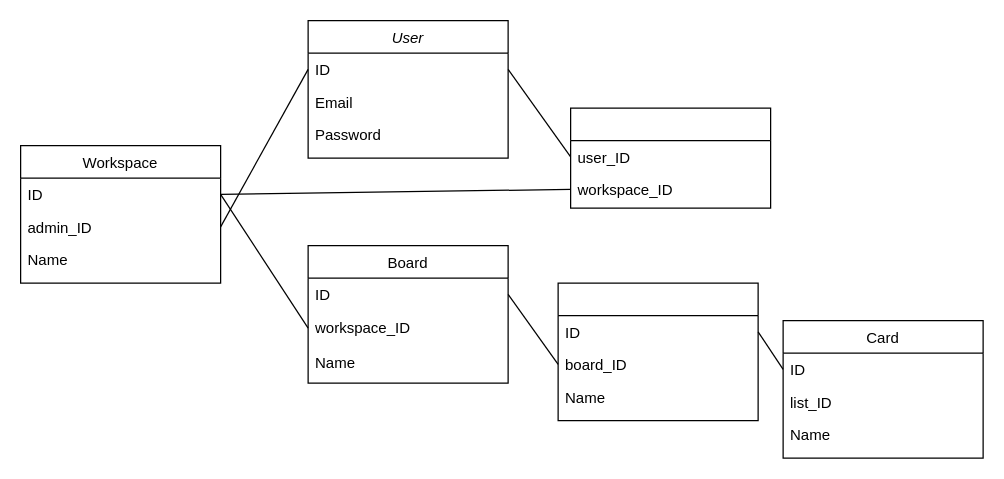
The diagram is 1004 pixels wide and 479 high, and some of its shapes have lost their labels. Each missing label, with the box of its shape:
List: (557, 282, 758, 421)
Workspace_members: (569, 107, 771, 208)
